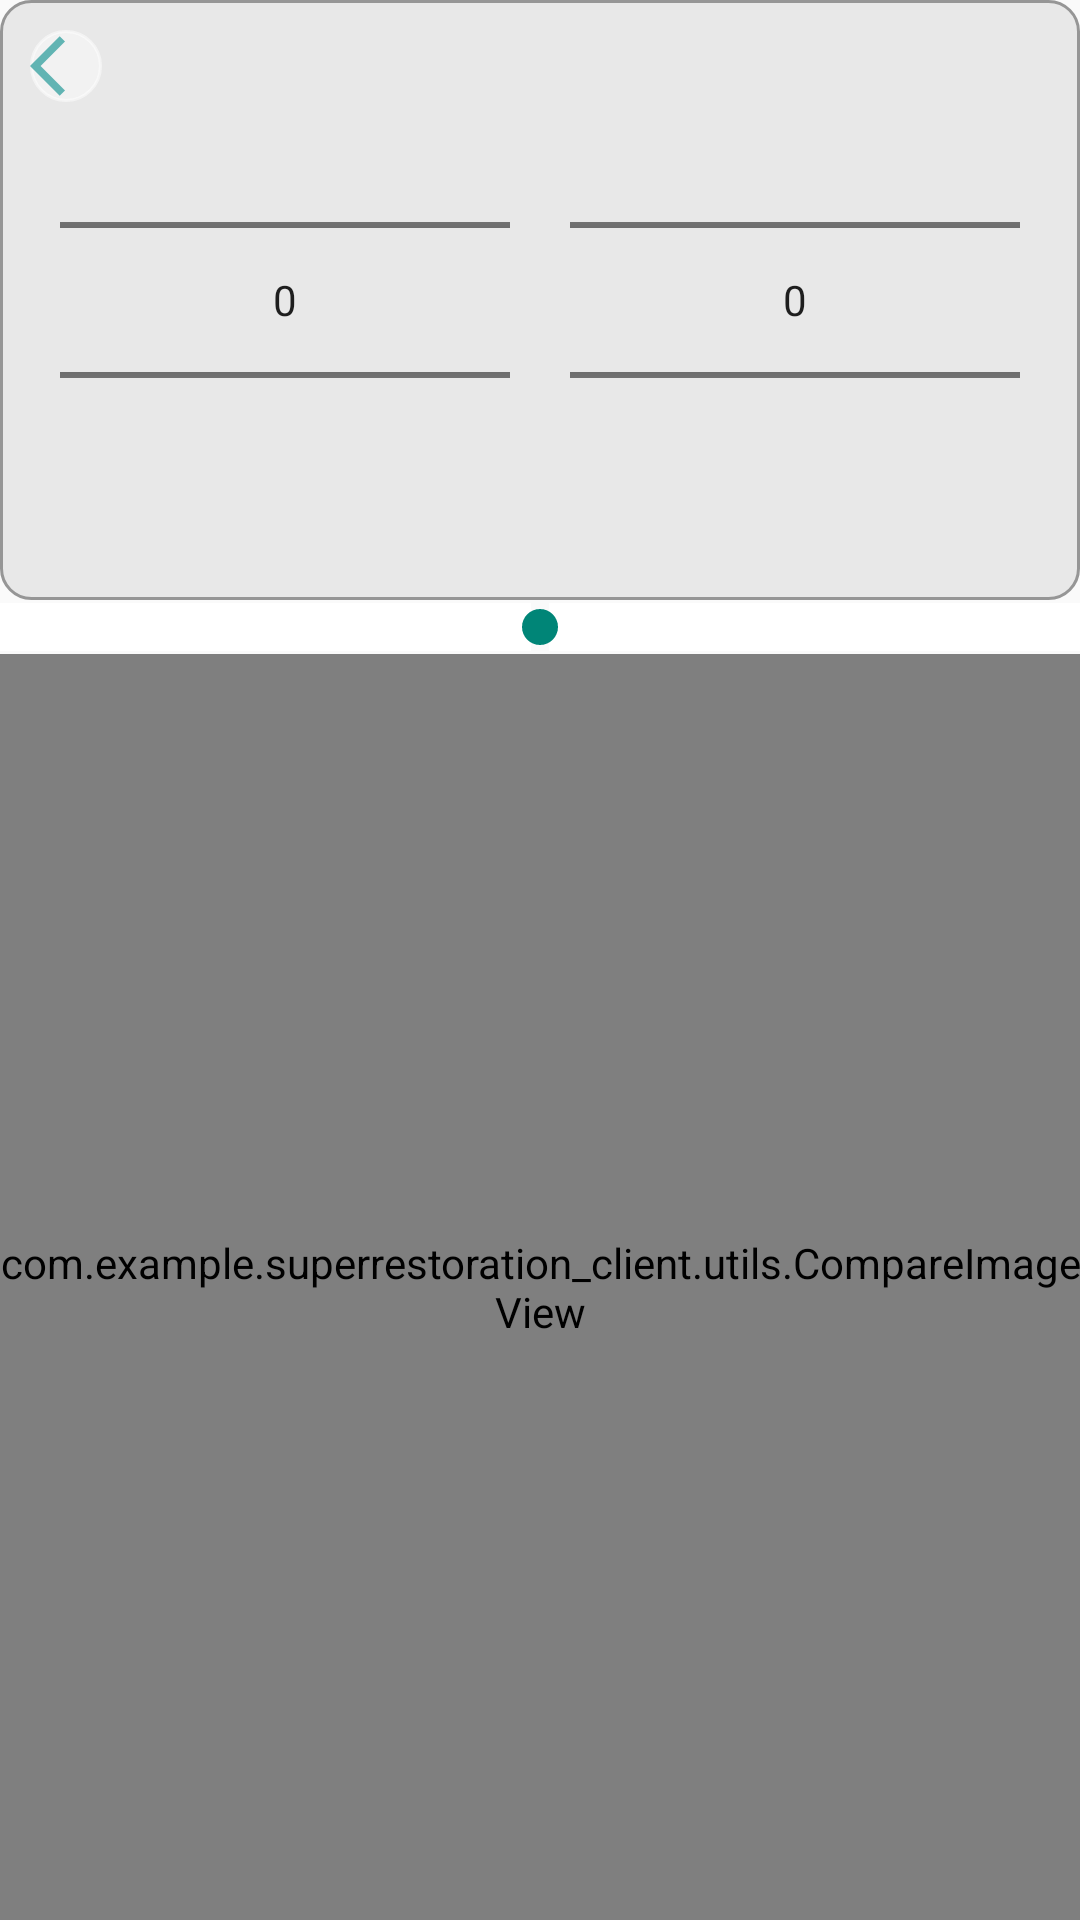

Icon click points for this 1080px x 1920px phone screenshot, format (x=x, y=y):
arrow back: (x=66, y=66)
